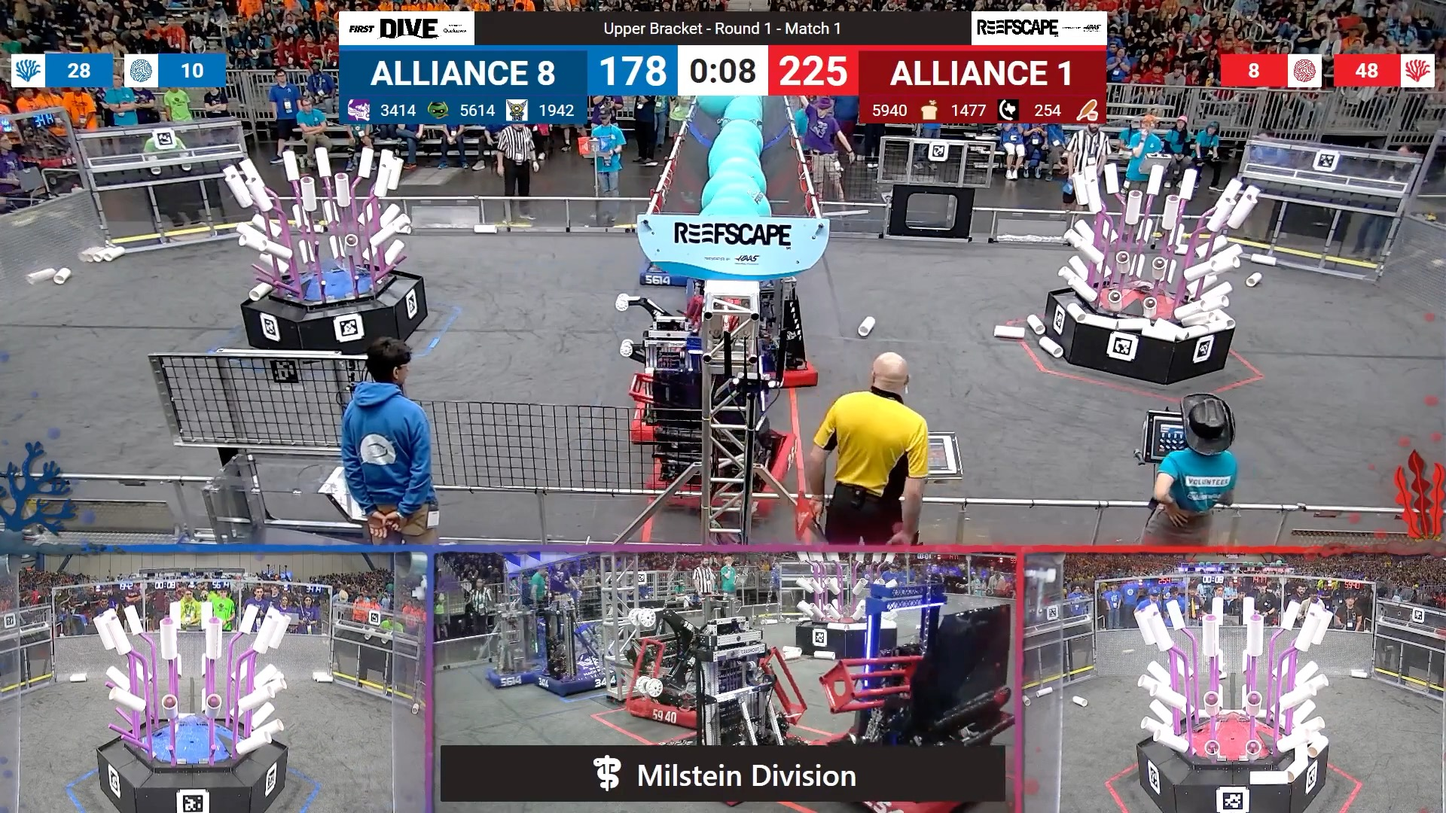bumpers: (637, 430, 804, 520), (523, 667, 621, 699), (625, 694, 704, 728), (765, 356, 826, 394), (478, 665, 546, 690), (632, 264, 685, 287)
